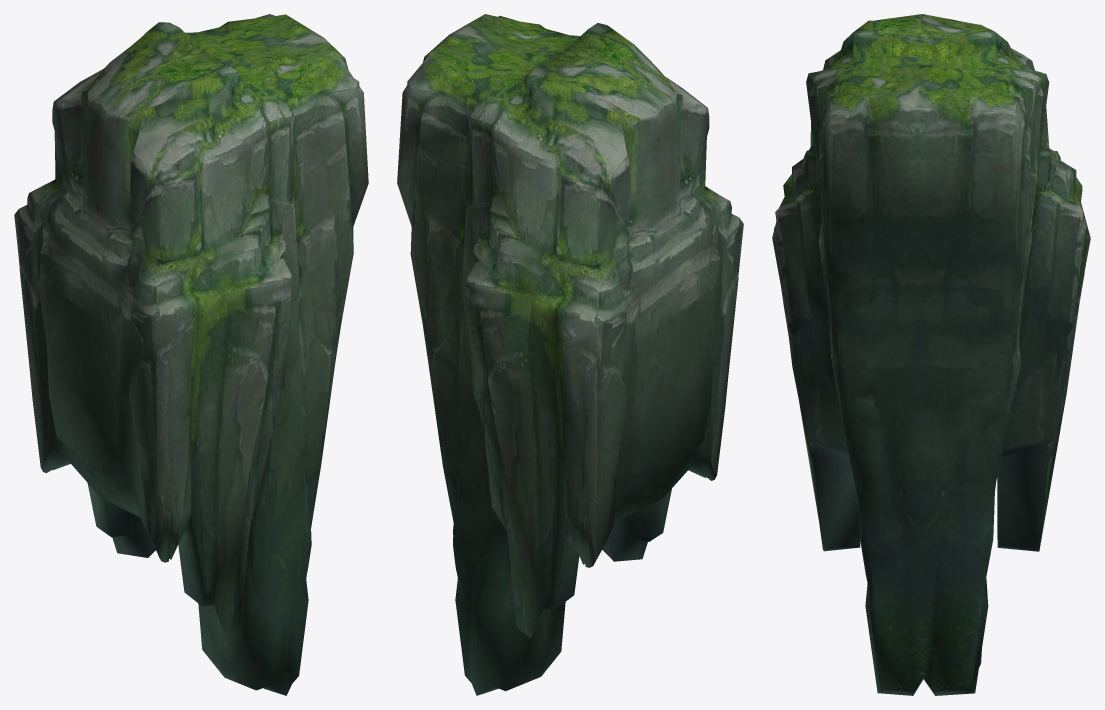
The model's file is 10001_Rocks_002.FBX.
3 renders of one model, left to right at view 1: azimuth 30°, elevation 25°; view 2: azimuth 150°, elevation 25°; view 3: azimuth 270°, elevation 25°, orthographic. The views are drawn at different scales.
Visible parts, largest first — view 1: 10001_Rocks_002; view 2: 10001_Rocks_002; view 3: 10001_Rocks_002.
Part boxes in pixels (x1,y1,x2,y2): 10001_Rocks_002: (14, 14, 368, 695); 10001_Rocks_002: (397, 14, 743, 695); 10001_Rocks_002: (772, 14, 1090, 695).
Bounding box in the file's own units: 5.88 × 6.4 × 14.07.
